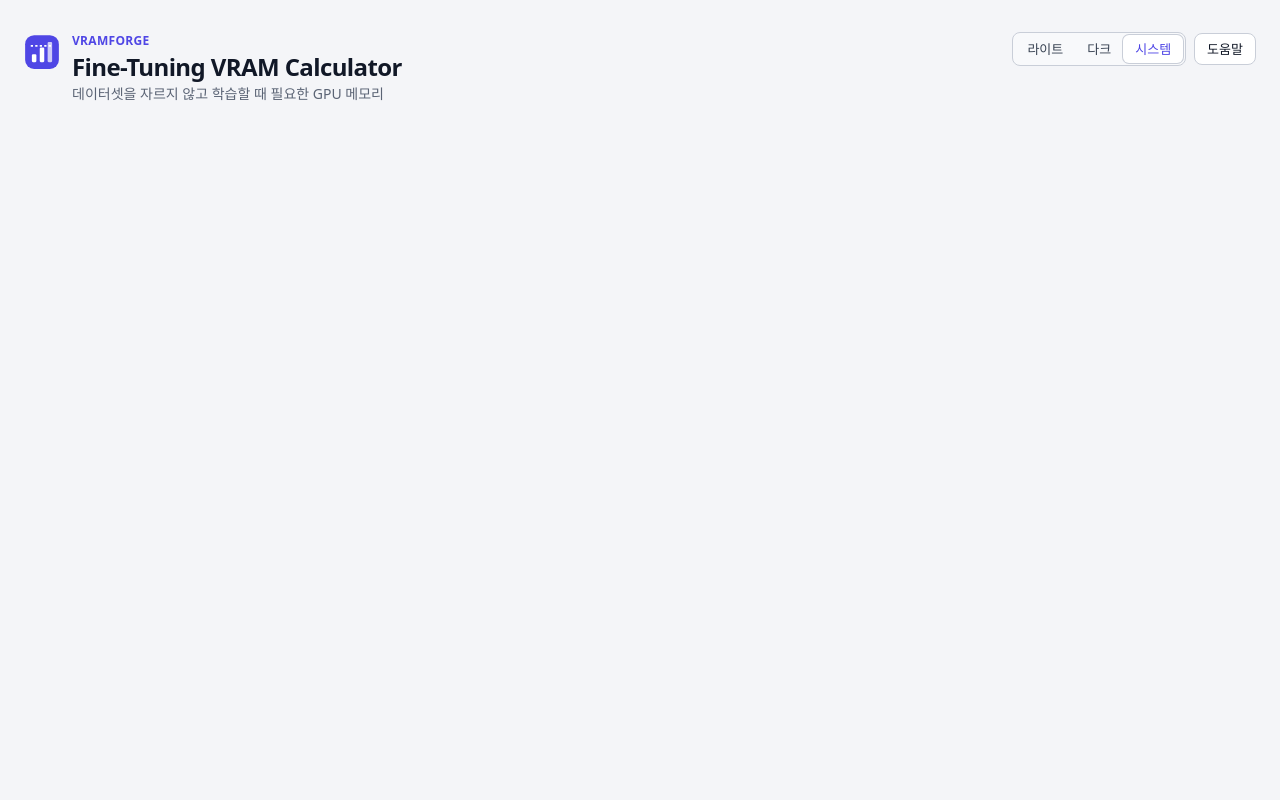
Test: header › shows the title, subtitle, theme toggle and help
Expected: the heading "Fine-Tuning VRAM Calculator" is shown, 72,51 -> 402,83
Expected: the text "데이터셋을 자르지 않고 학습할 때 필요한 GPU 메모리" is shown, 72,83 -> 402,104
Click the button "도움말": {"x": 1225, "y": 49} 1194,33 -> 1256,65
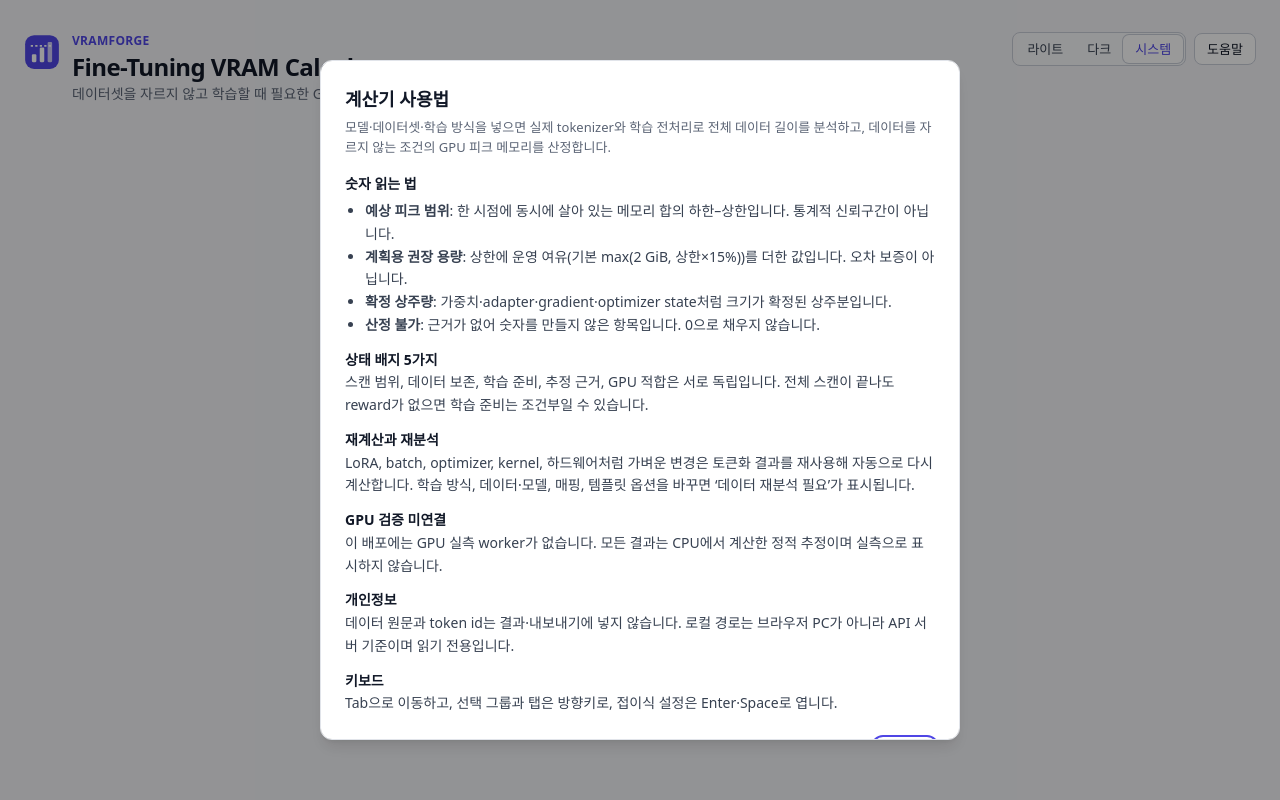
Result: the dialog "계산기 사용법" is shown at 320,60 -> 960,740
Press Escape
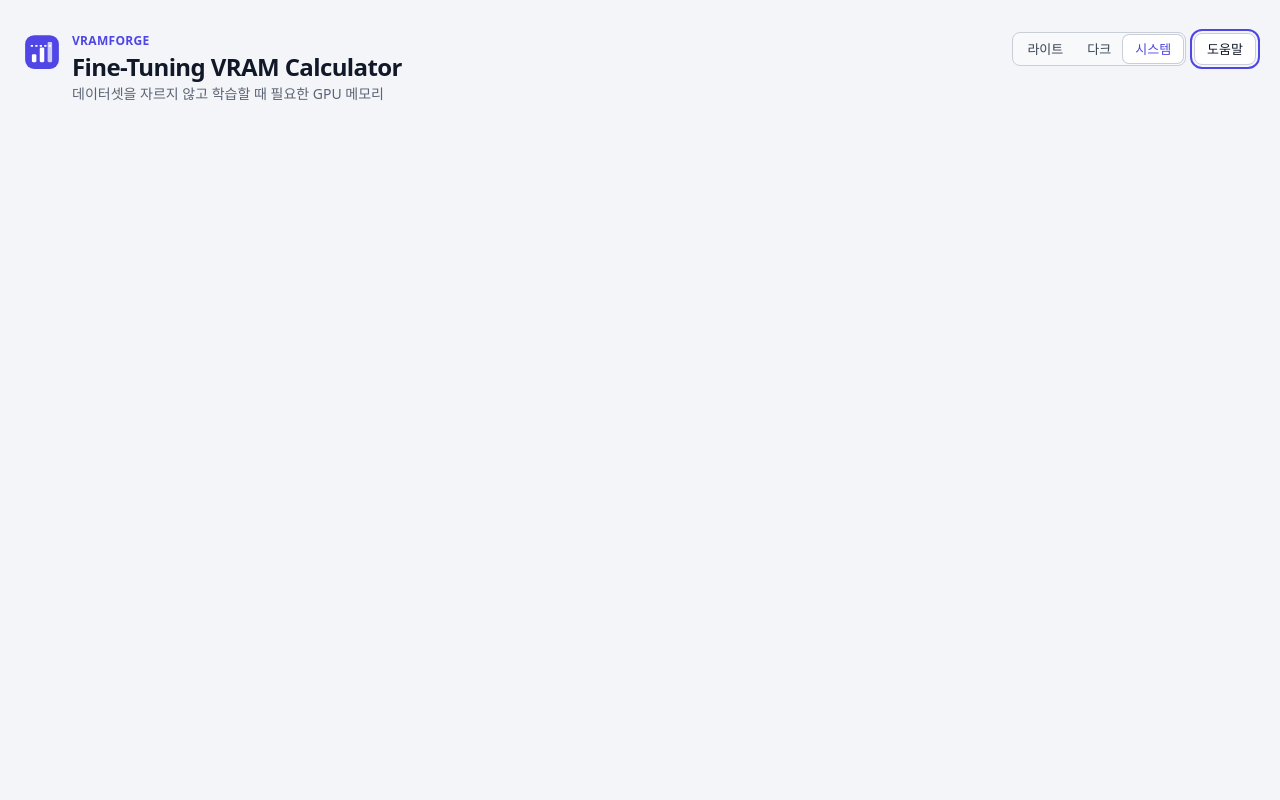
Result: the dialog is gone
